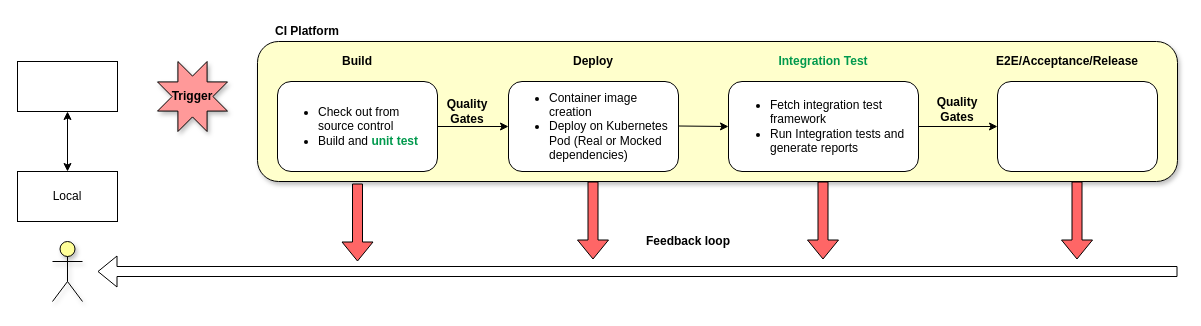
Some shapes in this 1201 by 326 pixel diagram are drawn without their labels. Here are the shapes that lost their labels. From the top down, the centre of each, then its label:
At (x=67, y=86): "Remote source control".
At (x=1077, y=126): "This varies depending on the process and the environments".
